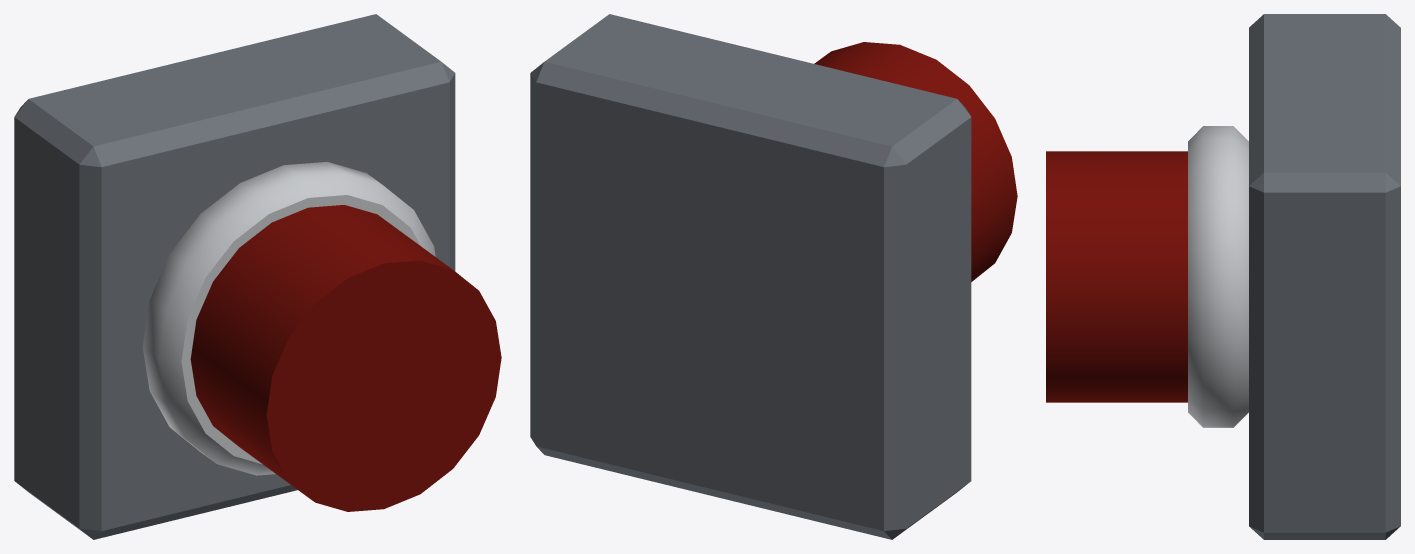
File: light_indicator_red.glb
3 views of the same model, side by side, from view 1: azimuth 30°, elevation 25°; view 2: azimuth 150°, elevation 25°; view 3: azimuth 270°, elevation 25° (orthographic). The views are drawn at different scales.
Visible parts, largest first — view 1: Indicator_Static, Lamp; view 2: Indicator_Static, Lamp; view 3: Indicator_Static, Lamp.
Boxes of the visible parts, bbox=[...] form: Indicator_Static: bbox=[14, 14, 455, 539]; Lamp: bbox=[190, 205, 501, 511]; Indicator_Static: bbox=[530, 14, 971, 539]; Lamp: bbox=[814, 42, 1017, 281]; Indicator_Static: bbox=[1188, 14, 1400, 539]; Lamp: bbox=[1046, 151, 1187, 402].
Size of the model in its own units: 0.08 by 0.08 by 0.07.
